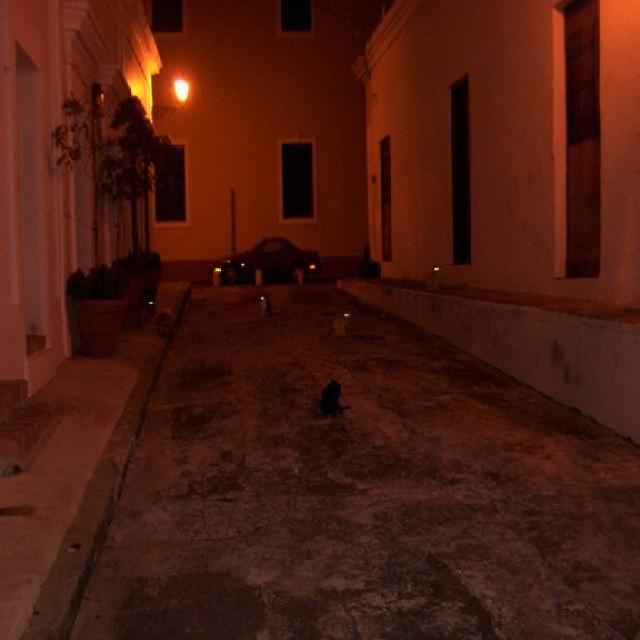Car: (213, 228, 324, 290)
Dog: (314, 378, 351, 427)
